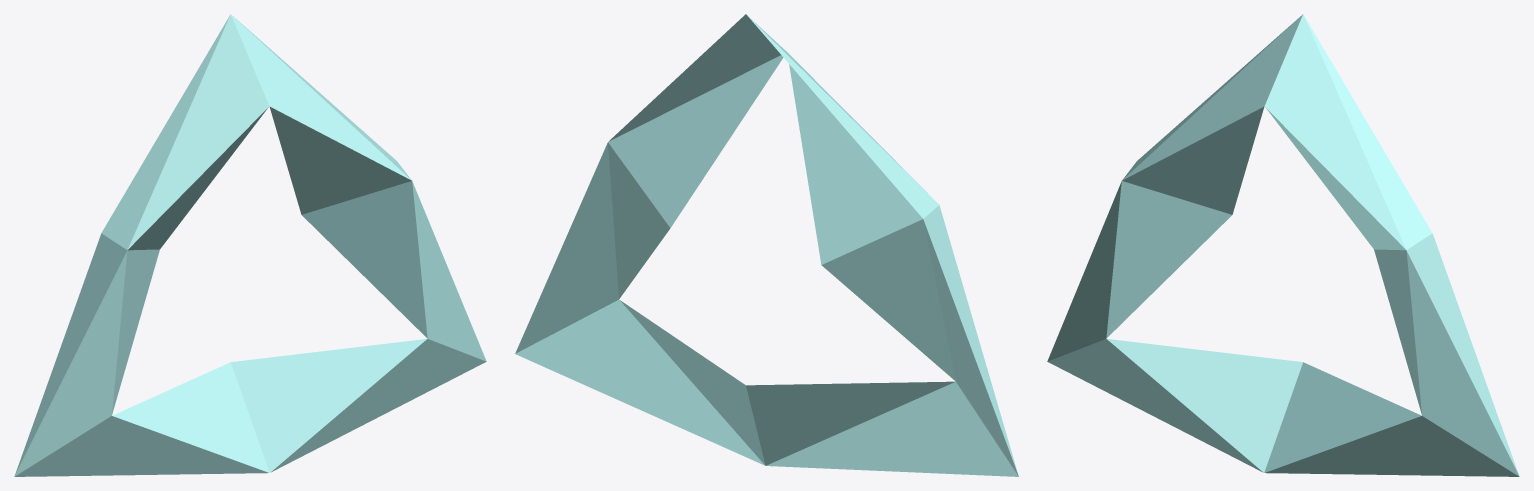
File: max.gltf
3 views of the same model, side by side, from view 1: azimuth 30°, elevation 25°; view 2: azimuth 150°, elevation 25°; view 3: azimuth 330°, elevation 25° (orthographic). The views are drawn at different scales.
Visible parts, largest first — view 1: Curve.006; view 2: Curve.006; view 3: Curve.006.
Boxes of the visible parts, x1=… form: Curve.006: x1=14, y1=14, x2=486, y2=476; Curve.006: x1=515, y1=14, x2=1018, y2=476; Curve.006: x1=1047, y1=14, x2=1519, y2=476.
Size of the model in its own units: 6.05 by 5.35 by 0.8667.
